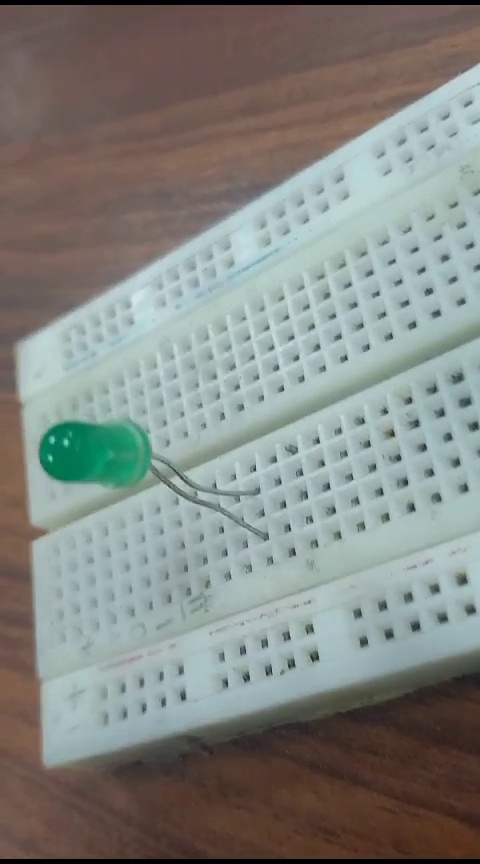LED: (32, 411, 271, 547)
